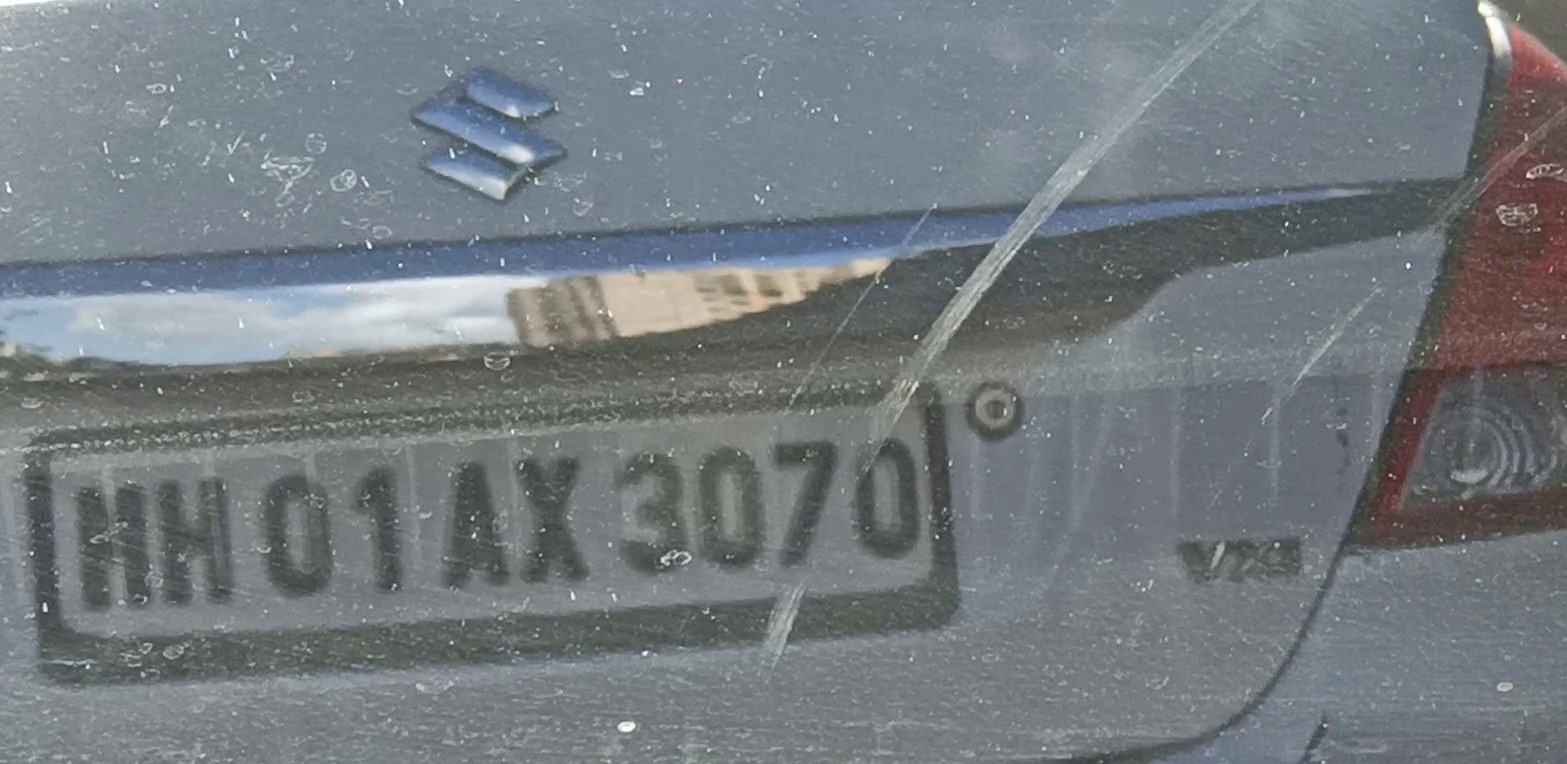MH01AX3070: (48, 401, 931, 637)
